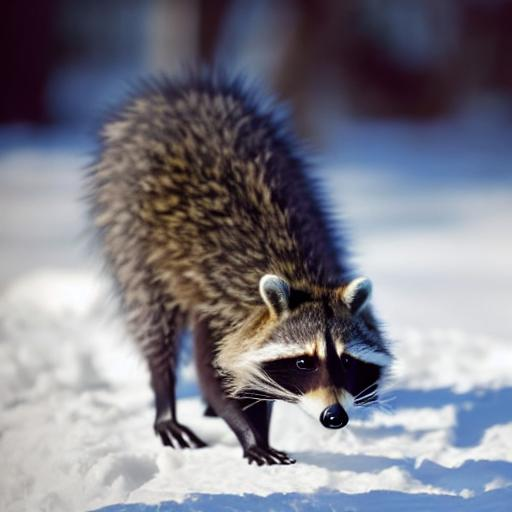raccoon: (76, 58, 403, 430)
